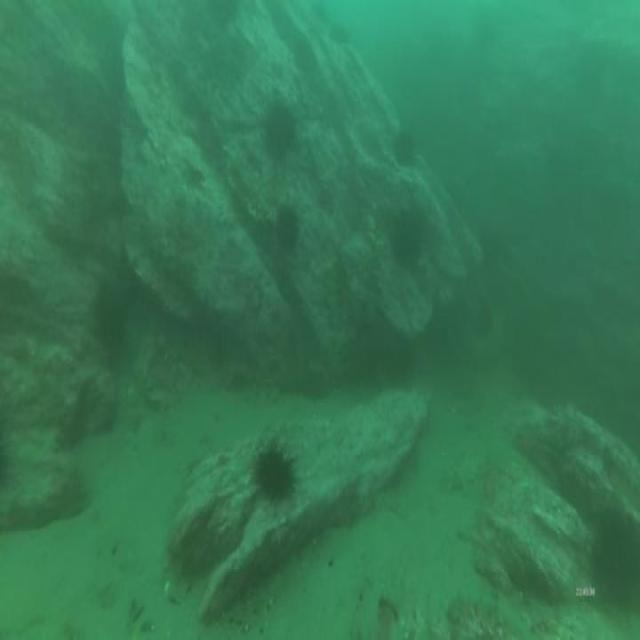echinus: (591, 515, 640, 618), (249, 438, 298, 510), (94, 267, 132, 352), (388, 204, 426, 275), (261, 101, 299, 163), (271, 197, 303, 264), (388, 122, 420, 175), (327, 19, 352, 52)
